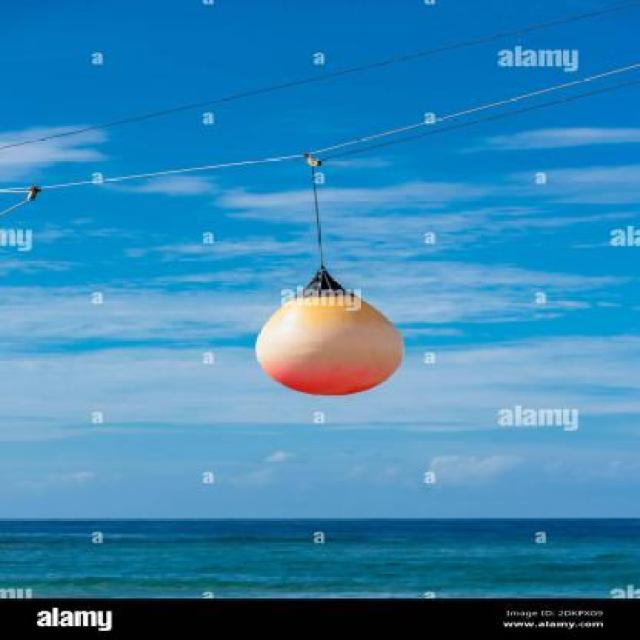a: (186, 262, 431, 414)
